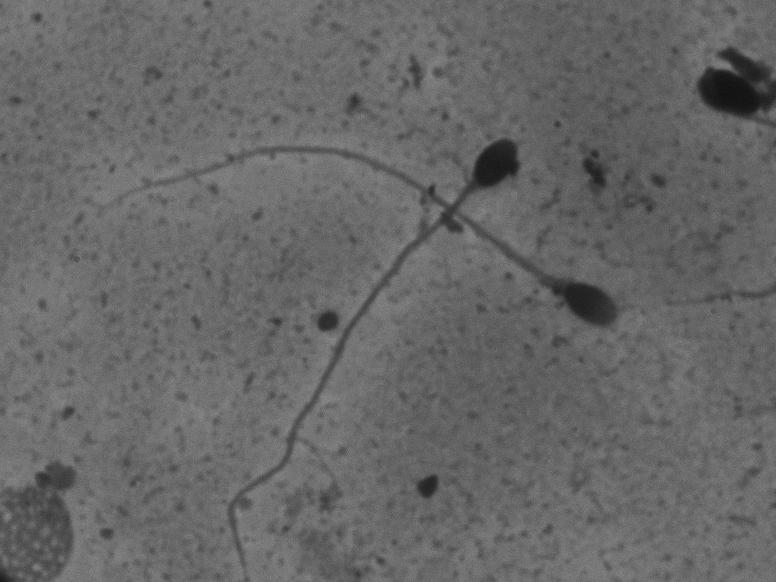Normal: (211, 134, 520, 573), (83, 131, 630, 340)
